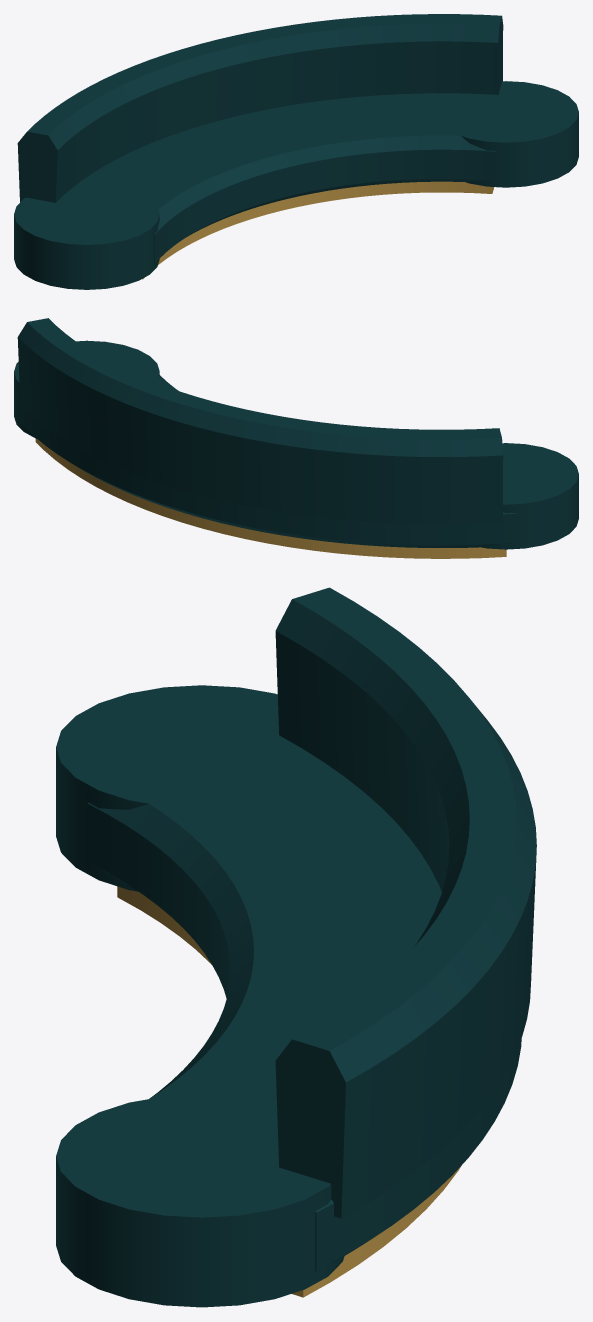
The model's file is furniture.statement.curved_sofa.glb.
3 views of the same model, one above another, from view 1: azimuth 30°, elevation 25°; view 2: azimuth 150°, elevation 25°; view 3: azimuth 270°, elevation 25° (orthographic). The views are drawn at different scales.
Parts seen in each view (by area): view 1: upholstery__velvet_teal, frame__brass; view 2: upholstery__velvet_teal, frame__brass; view 3: upholstery__velvet_teal, frame__brass.
Part boxes in pixels (x1,y1,x2,y2): upholstery__velvet_teal: (14,14,578,289); frame__brass: (142,181,494,279); upholstery__velvet_teal: (14,318,578,549); frame__brass: (35,438,506,558); upholstery__velvet_teal: (56,587,536,1307); frame__brass: (117,886,460,1297).
Bounding box in the file's own units: 4.32 × 0.94 × 1.65.
